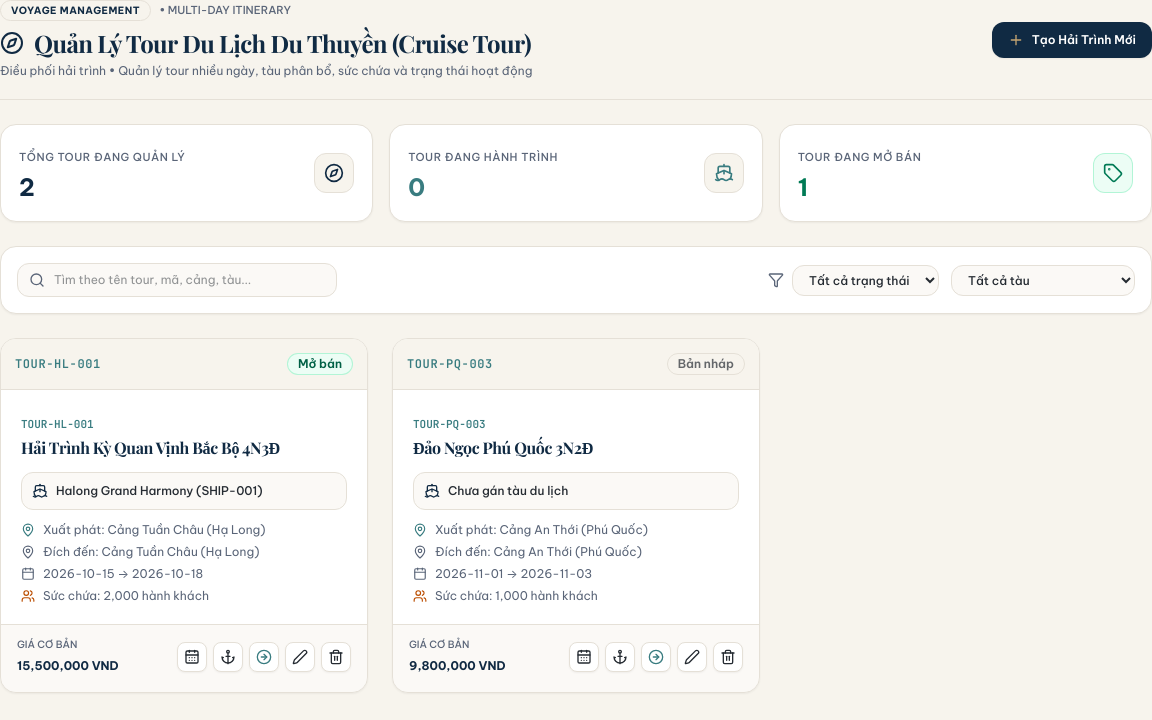
Scenario: ItineraryPage (Cruise Tour Management Interface) › opens delete confirmation modal when clicking delete button
Check: the heading "Hải Trình Kỳ Quan Vịnh Bắc Bộ 4N3Đ" is shown, box [21,437,280,458]
Click the button titled "Xóa tour" in the row of "15,500,000" at {"x": 336, "y": 656}, box [321,642,351,672]
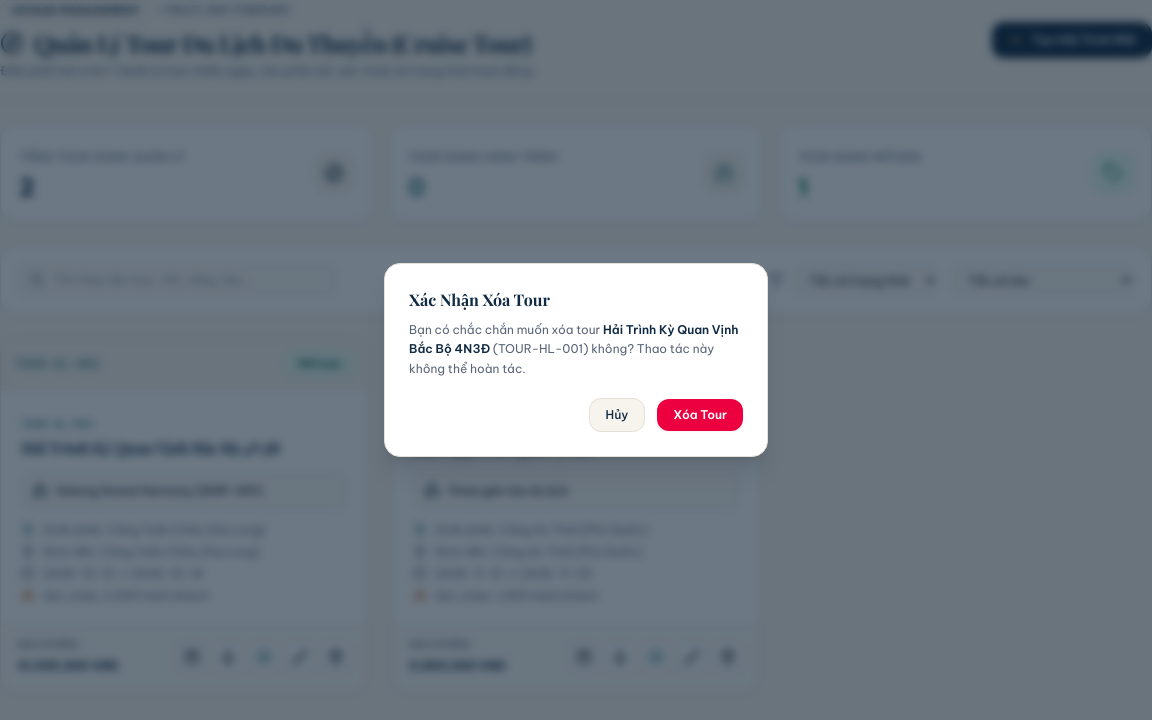
Check: the dialog is shown
Check: the dialog shows "Xác Nhận Xóa Tour", box [409,289,550,310]
